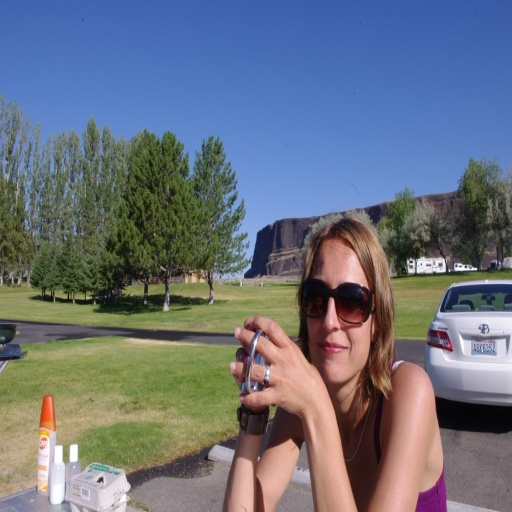hand: (250, 327, 339, 457), (234, 323, 266, 391)
